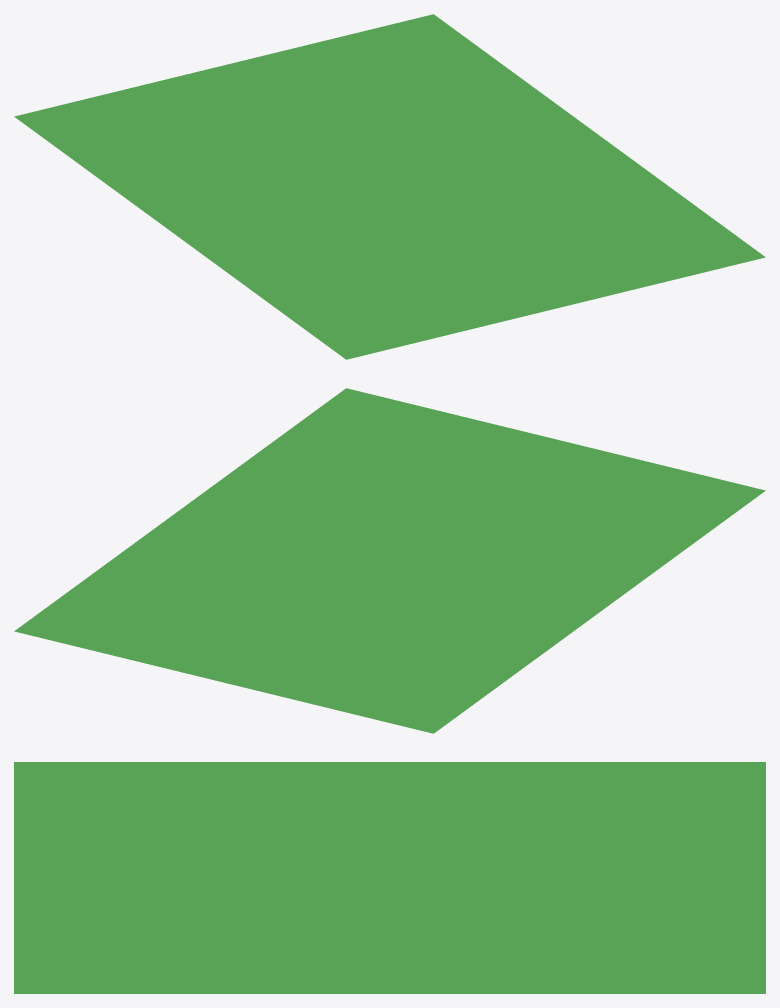
File: Ground.fbx
3 renders of one model, top to bottom at view 1: azimuth 30°, elevation 25°; view 2: azimuth 150°, elevation 25°; view 3: azimuth 270°, elevation 25°, orthographic. The views are drawn at different scales.
Visible parts, largest first — view 1: Plane; view 2: Plane; view 3: Plane.
Part boxes in pixels (bbox=[...]): Plane: bbox=[14, 14, 765, 359]; Plane: bbox=[14, 388, 765, 733]; Plane: bbox=[14, 762, 765, 993].
Bounding box in the file's own units: 31576 × 0 × 43304.
